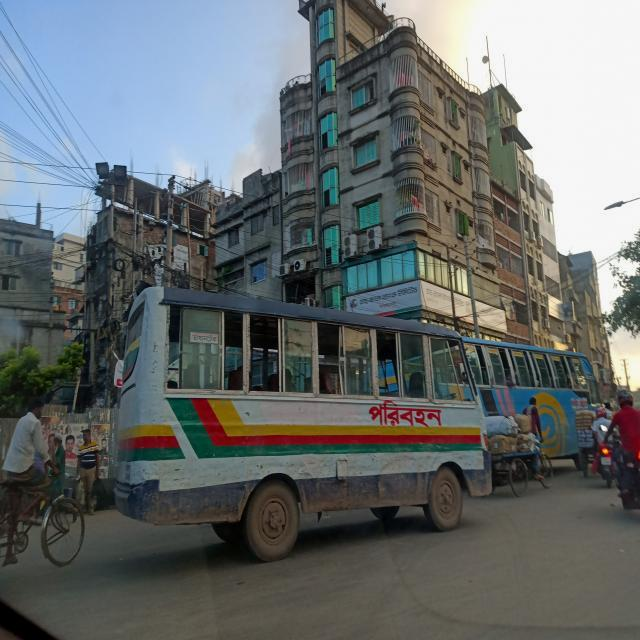bus: (116, 286, 495, 559)
